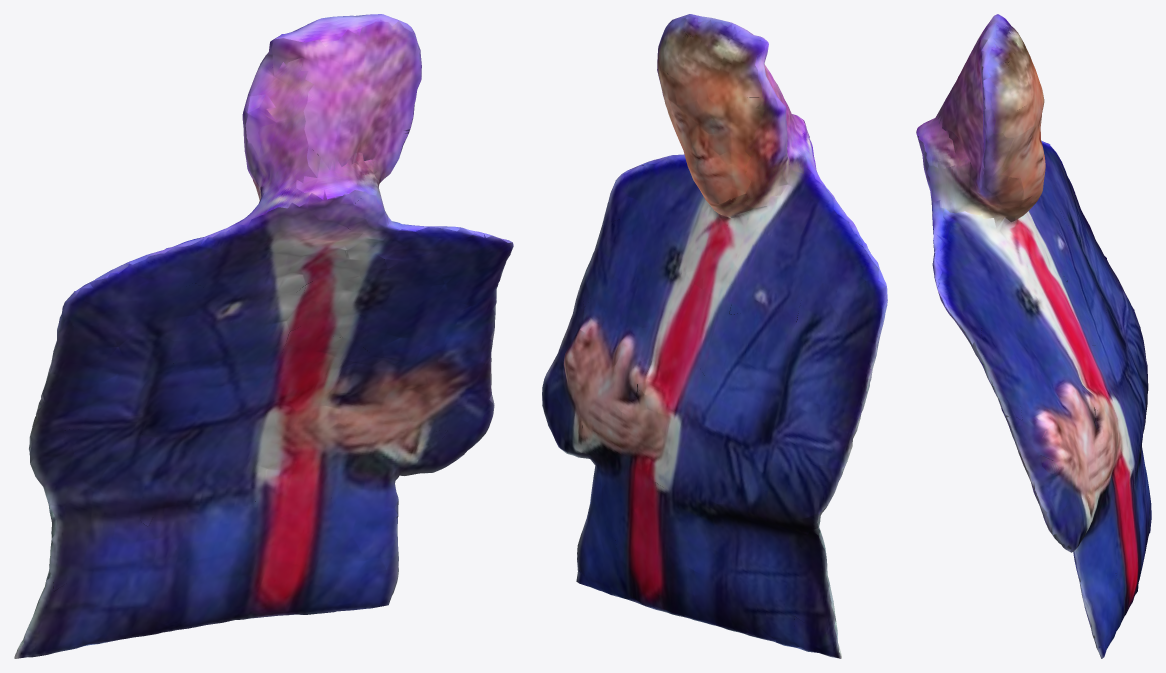
3 views of the same model, side by side, from view 1: azimuth 30°, elevation 25°; view 2: azimuth 150°, elevation 25°; view 3: azimuth 270°, elevation 25° (orthographic). The views are drawn at different scales.
Parts seen in each view (by area): view 1: world; view 2: world; view 3: world.
Boxes of the visible parts, left/top/right/bottom form: world: left=14, top=14, right=513, bottom=658; world: left=542, top=14, right=887, bottom=658; world: left=916, top=14, right=1151, bottom=658.
Bounding box in the file's own units: 0.6601 × 0.9873 × 0.3625.
1 material, 1 textured.
